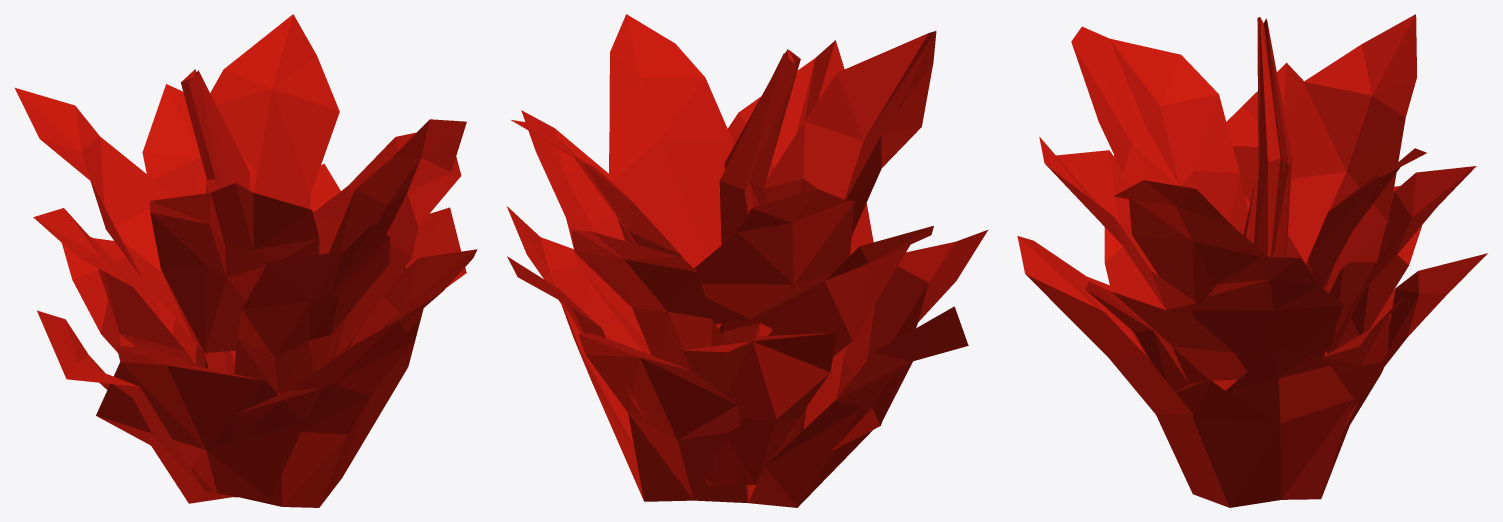
Rendered from p2-orange.obj.
The picture shows the model from 3 angles, left to right: view 1: azimuth 30°, elevation 25°; view 2: azimuth 150°, elevation 25°; view 3: azimuth 270°, elevation 25°; orthographic projection. The views are drawn at different scales.
Parts seen in each view (by area): view 1: p2-orange_Cylinder.033; view 2: p2-orange_Cylinder.033; view 3: p2-orange_Cylinder.033.
Boxes of the visible parts, x1=… form: p2-orange_Cylinder.033: x1=15, y1=14, x2=477, y2=507; p2-orange_Cylinder.033: x1=506, y1=14, x2=987, y2=507; p2-orange_Cylinder.033: x1=1017, y1=14, x2=1487, y2=507.
Bounding box in the file's own units: 3.9 × 3.87 × 3.8.
